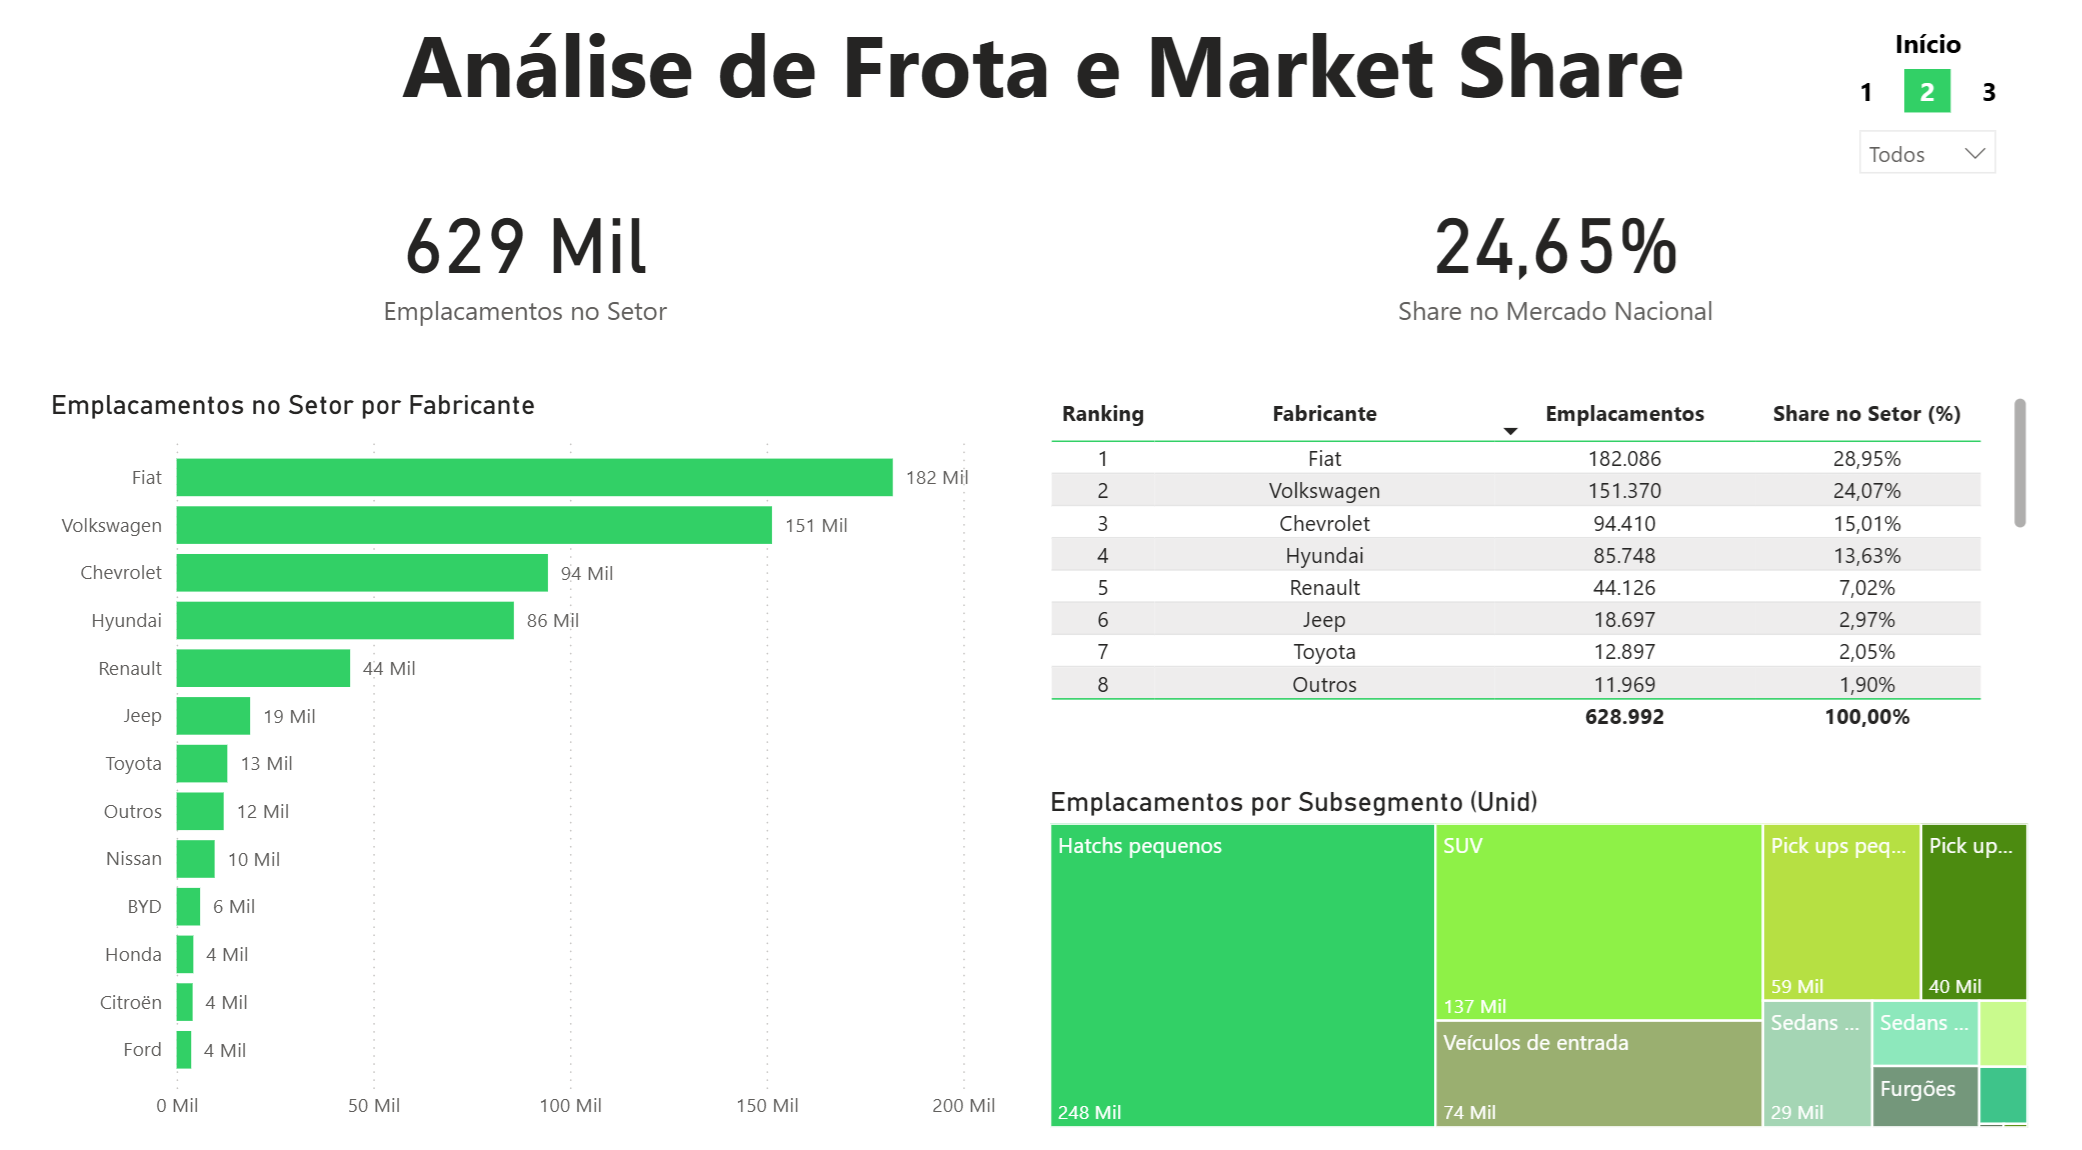

What the dashboard file says about the page in this screenshot:
{"tool":"powerbi","page":{"name":"Análise de Frota e Market Share","canvas":[1280,720],"ordinal":2},"visuals":[{"type":"shape","box":[1140.3,45.3,28.8,27.4],"z":0},{"type":"shape","box":[1178.7,45.3,28.8,27.4],"z":1000},{"type":"shape","box":[1217.2,45.3,28.8,27.4],"z":2000},{"type":"card","fields":{"Values":["_Medidas.Emplacamentos Setor (Unid)"]},"box":[0,109.8,643.6,100.2],"z":3000},{"type":"card","fields":{"Values":["_Medidas.Participação do Setor DAX (%)"]},"box":[643.6,109.8,636.7,100.2],"z":4000},{"type":"treemap","title":"Emplacamentos por Subsegmento (Unid)","fields":{"Group":["f_emplacamento_por_subsegmento.Subsegmento"],"Values":["_Medidas.Emplacamentos por Subsegmento (Unid)"]},"box":[643.1,490.1,617,217.7],"z":5000},{"type":"clusteredBarChart","title":"Emplacamentos no Setor por Fabricante","fields":{"Category":["f_emplacamento_por_fabricante.Fabricante"],"Y":["_Medidas.Emplacamentos Setor (Unid)"]},"box":[22.4,243.8,600.8,464],"z":6000},{"type":"textbox","box":[197.6,0,891.9,82.3],"z":7000},{"type":"tableEx","fields":{"Values":["_Medidas.Ranking Fabricante","f_emplacamento_por_fabricante.Fabricante","_Medidas.Emplacamentos Setor (Unid)","_Medidas.Share Fabricante (%)"]},"box":[643.3,244,617.1,217.1],"z":8000},{"type":"shape","box":[1160.6,17.4,65.9,23.6],"z":9000},{"type":"slicer","fields":{"Values":["d_ano.Ano"]},"box":[1140.5,73,104.8,43.1],"z":10000}]}

Visuals, with their boxes in screenshot pixels (x1, y1, x2, y2), scaled from the page's 1280x720 canvas onto the 2082x1150 screenshot:
shape: x1=1855, y1=72, x2=1902, y2=116
shape: x1=1917, y1=72, x2=1964, y2=116
shape: x1=1980, y1=72, x2=2027, y2=116
card - _Medidas.Emplacamentos Setor (Unid): x1=0, y1=175, x2=1047, y2=335
card - _Medidas.Participação do Setor DAX (%): x1=1047, y1=175, x2=2081, y2=335
"Emplacamentos por Subsegmento (Unid)" treemap: x1=1046, y1=783, x2=2050, y2=1131
"Emplacamentos no Setor por Fabricante" clusteredBarChart: x1=36, y1=389, x2=1014, y2=1131
textbox: x1=321, y1=0, x2=1772, y2=131
tableEx - _Medidas.Ranking Fabricante x f_emplacamento_por_fabricante.Fabricante: x1=1046, y1=390, x2=2050, y2=736
shape: x1=1888, y1=28, x2=1995, y2=65
slicer - d_ano.Ano: x1=1855, y1=117, x2=2026, y2=185
